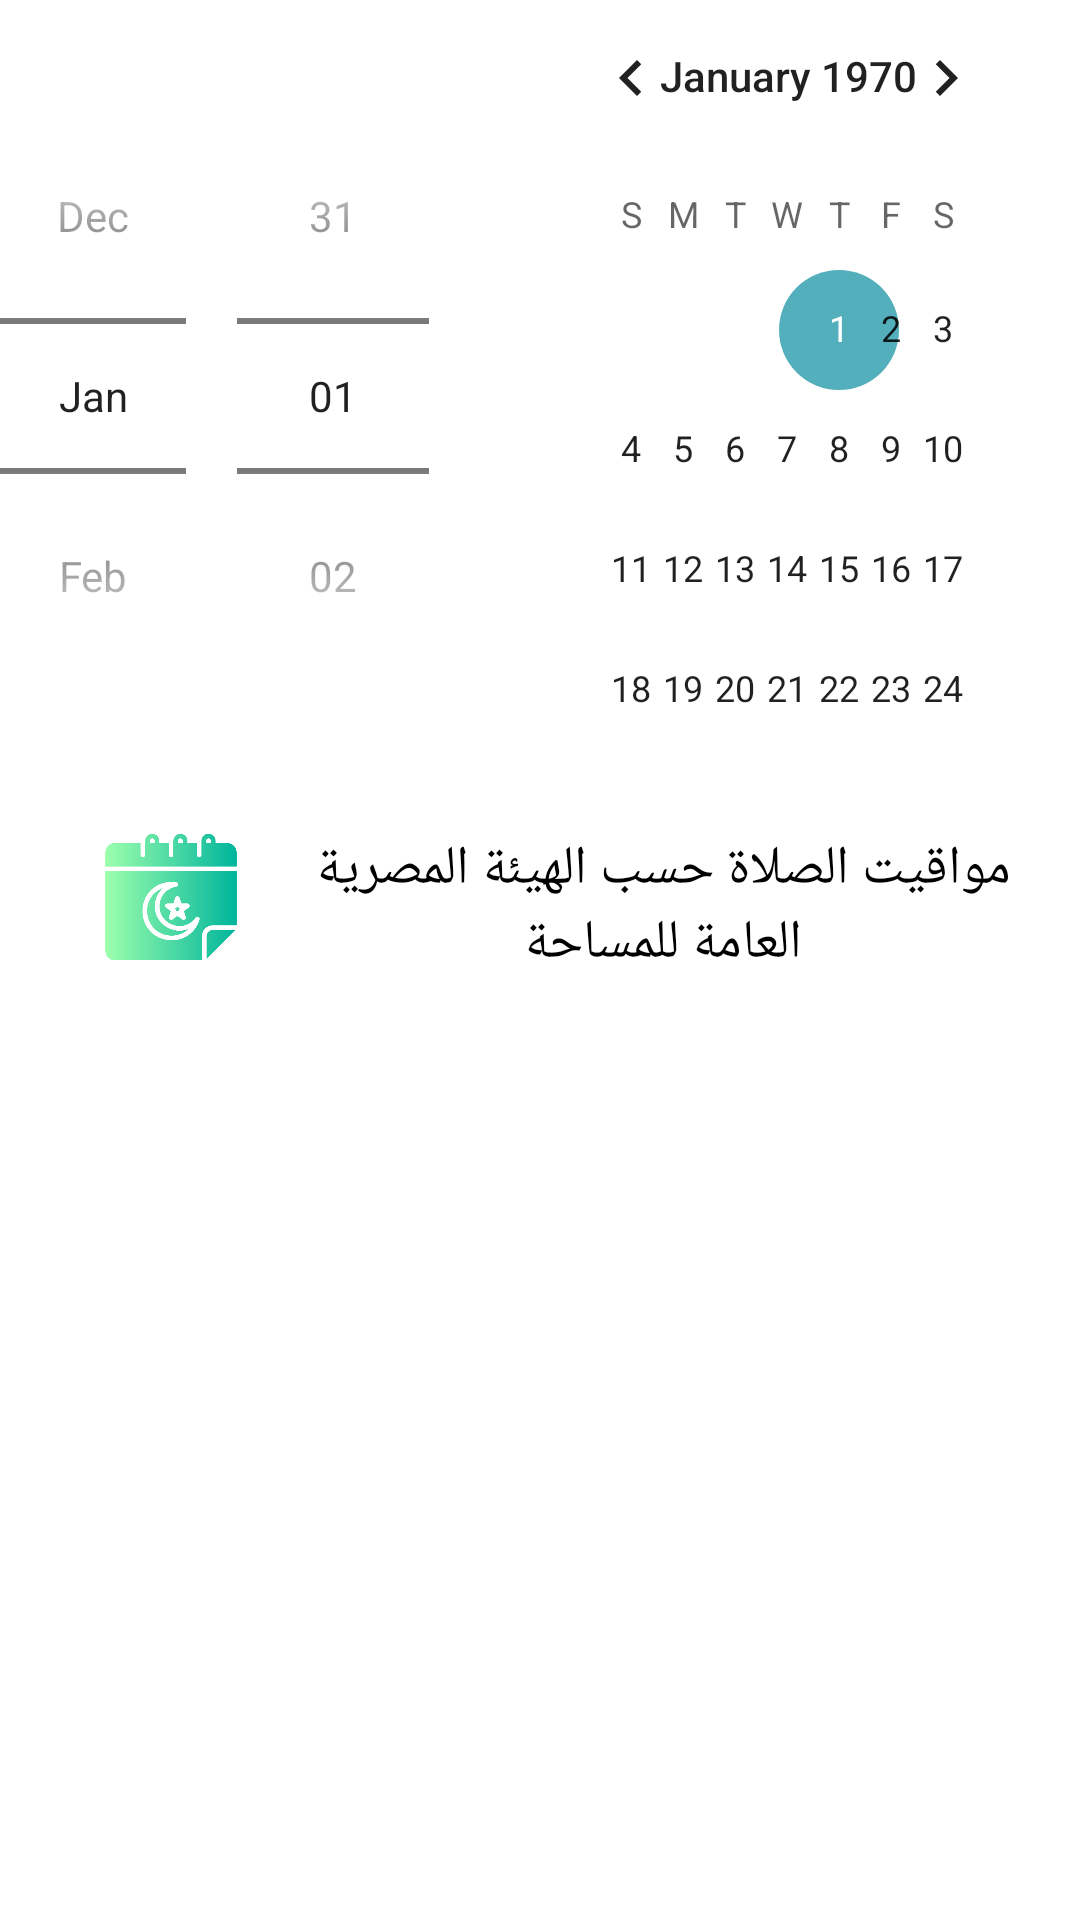

Where icons sit on this 1080×1920 app screen, as (left=x1, top=y1, right=x2, bottom=y2):
calendar: (left=105, top=834, right=237, bottom=960)
